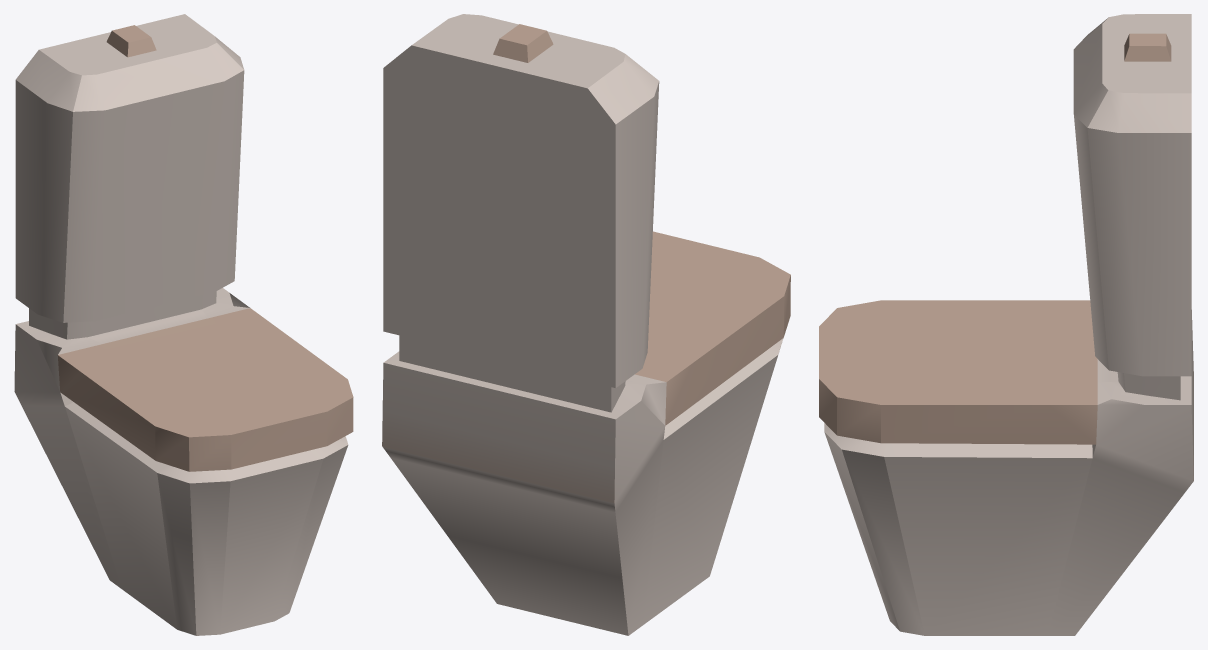
Rendered from Prop_Toilet_01.fbx.
3 renders of one model, left to right at view 1: azimuth 30°, elevation 25°; view 2: azimuth 150°, elevation 25°; view 3: azimuth 270°, elevation 25°, orthographic. The views are drawn at different scales.
Visible parts, largest first — view 1: pCube4; view 2: pCube4; view 3: pCube4.
Boxes of the visible parts, <box> form: pCube4: <box>14,14,353,635</box>; pCube4: <box>382,14,790,635</box>; pCube4: <box>819,14,1193,635</box>.
Size of the model in its own units: 0.3741 by 0.9447 by 0.5668.
